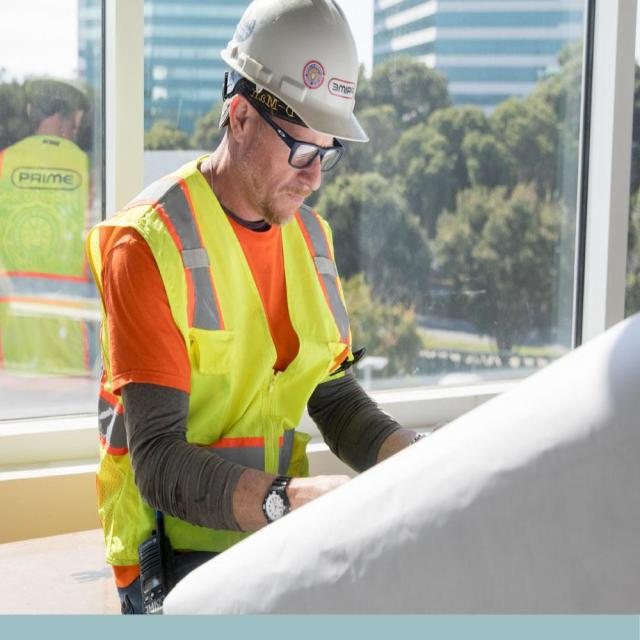Reflective-Jacket: (84, 175, 354, 564)
Safety-Helmet: (216, 0, 374, 150)
